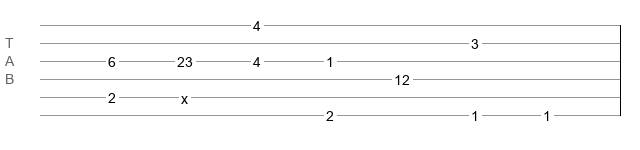1: (326, 54, 334, 64), (471, 108, 479, 118), (543, 108, 551, 118)
12: (394, 72, 410, 82)
2: (108, 90, 116, 100), (326, 108, 334, 118)
23: (177, 54, 193, 64)
3: (471, 36, 479, 46)
4: (253, 18, 261, 28), (253, 54, 261, 64)
6: (108, 54, 116, 64)
x: (181, 91, 188, 99)
